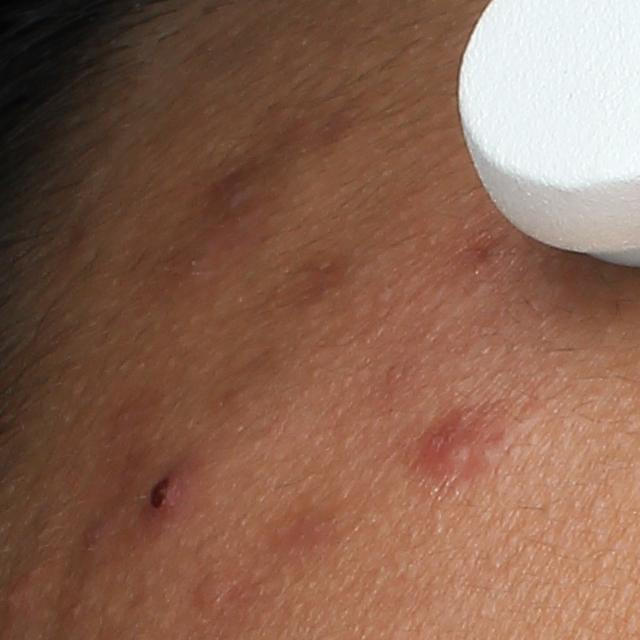papule: (139, 467, 193, 524), (436, 427, 492, 471), (3, 573, 30, 625)
